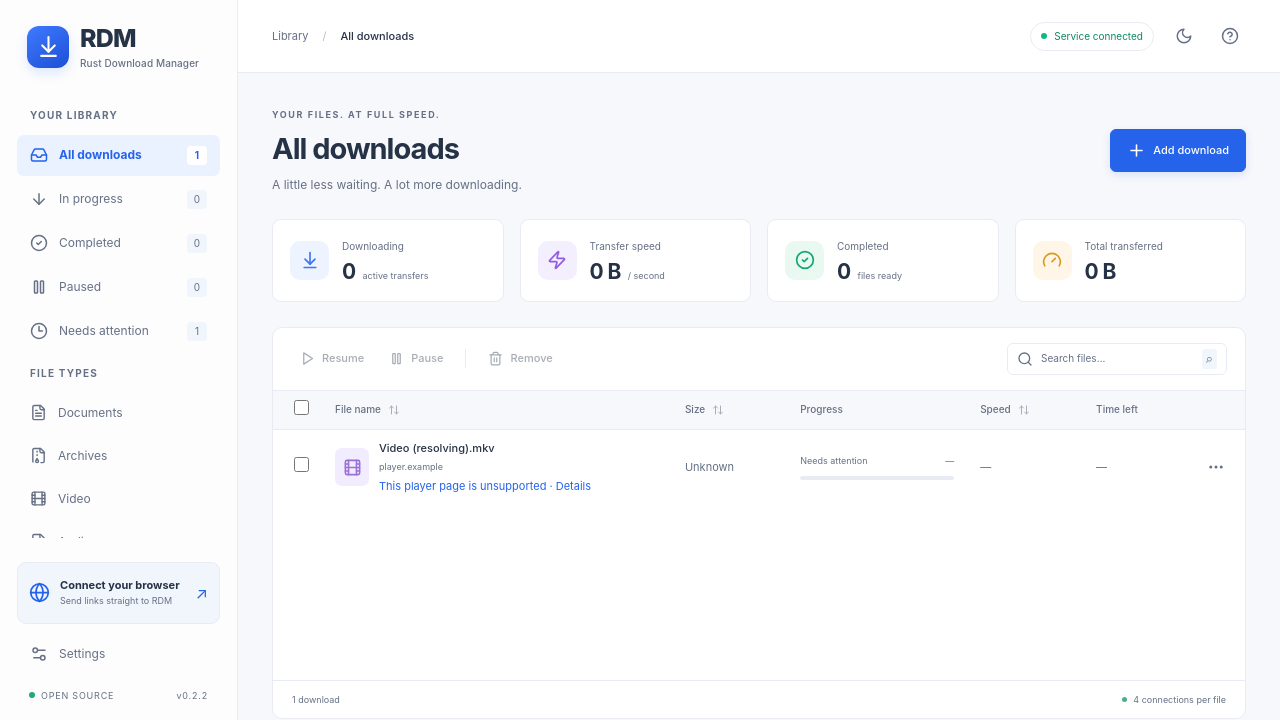
Scenario: download manager › shows a failed download error in its row and opens recovery details
What coordinates should you click on to do the following:
click the button with aria-label "View error for Video (resolving).mkv"
I would click on:
 (485, 486)
Its box is left=379, top=478, right=591, bottom=494.
(page scrolled)
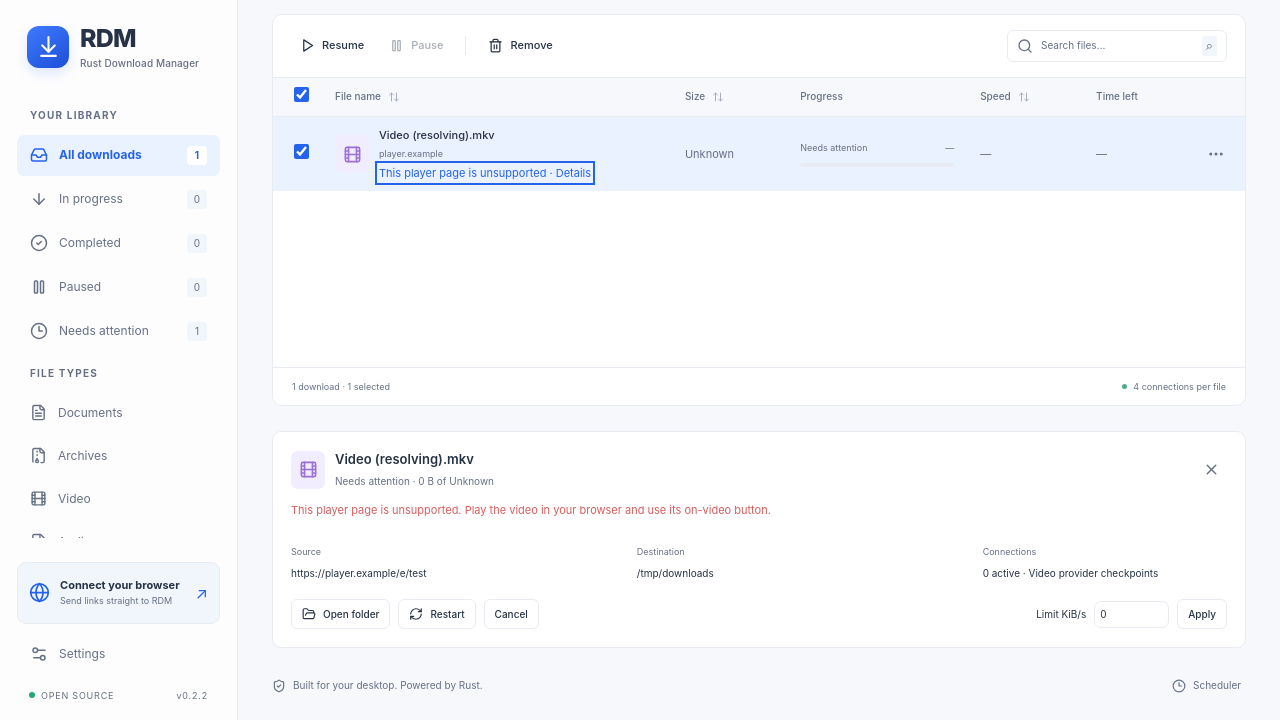
Now the message shows "This player page is unsupported. Play the video in your browser and use its on-video button.", box left=291, top=503, right=771, bottom=517
